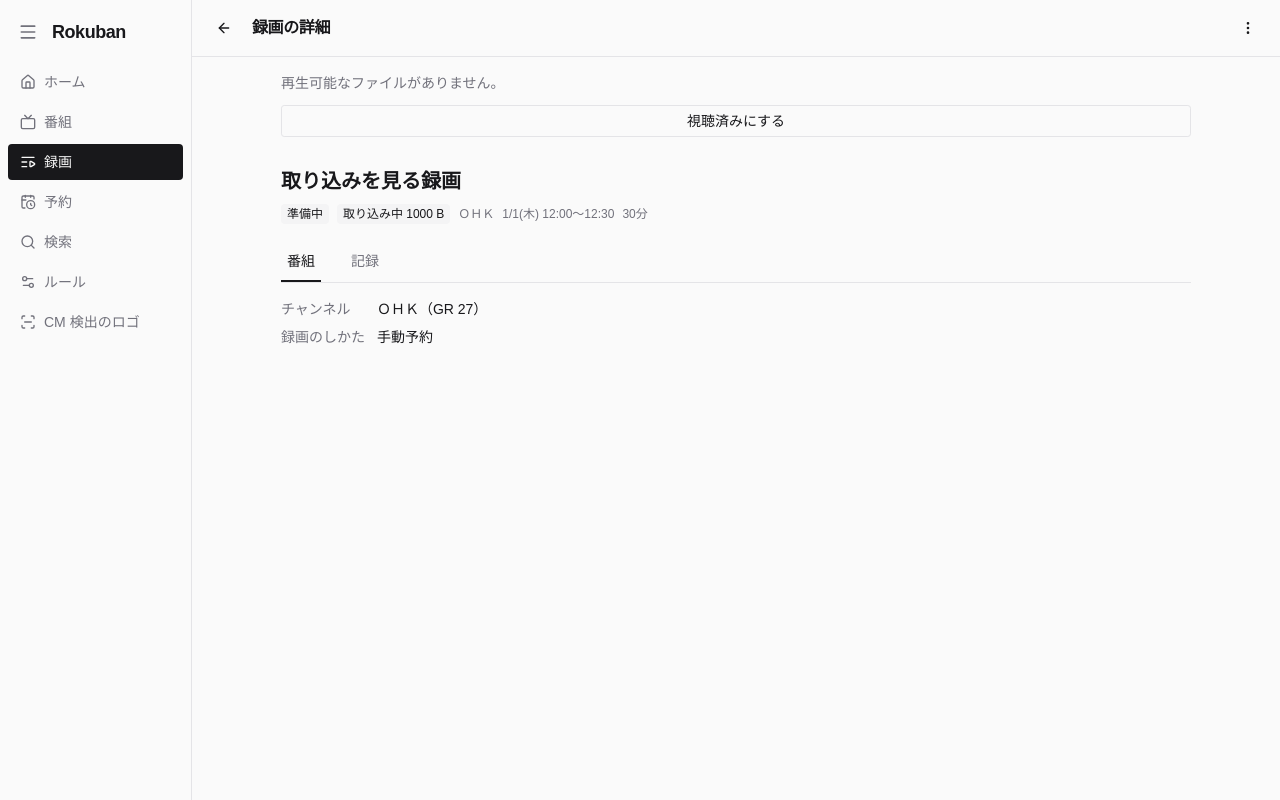
取り込み進捗の表示 › 同じ進捗データのまま 60 秒を越えたら停滞へ切り替わる
Expected: the heading "取り込みを見る録画" is shown, [281, 170, 461, 192]
Expected: the text "取り込み中 1000 B（停滞）" is not shown
Click the button with aria-label "取り込み状態を記録タブで見る": [394, 214] box [337, 202, 450, 226]
Wait 60001 ms
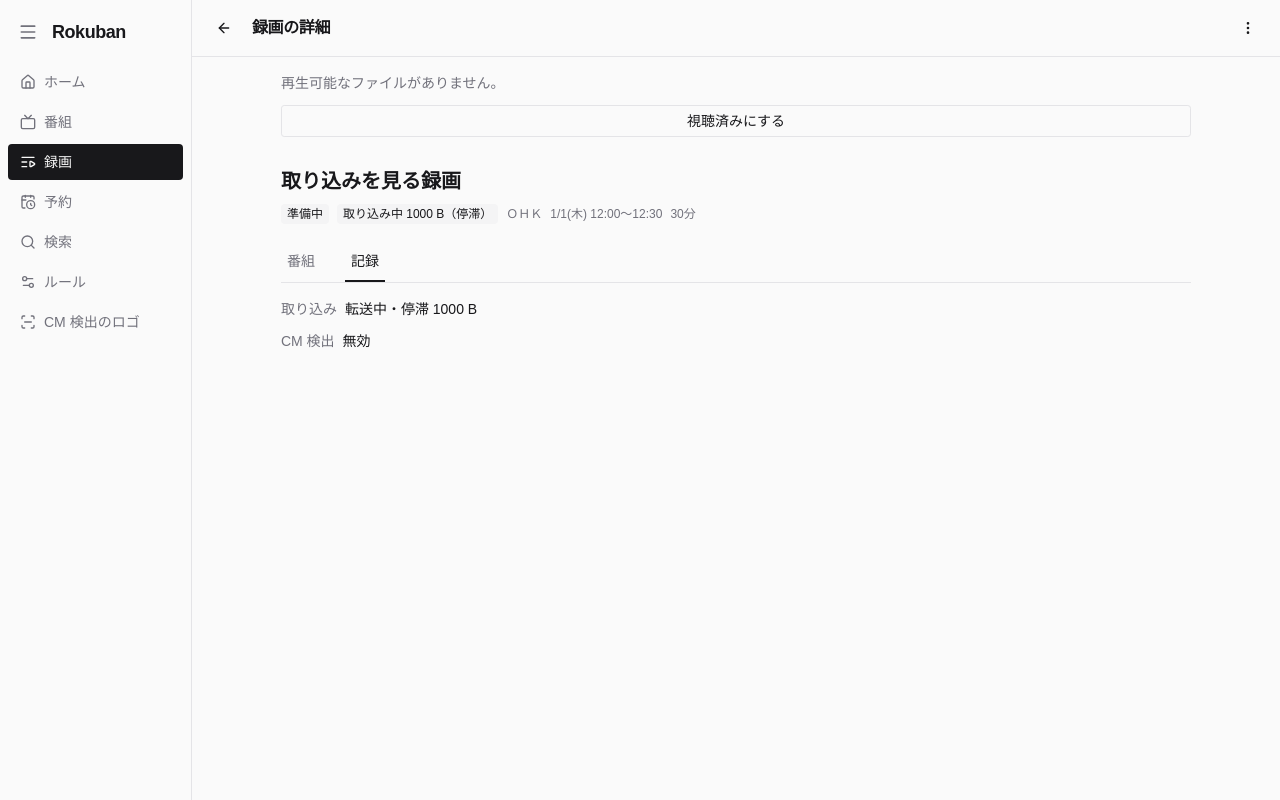
Now the text "取り込み中 1000 B（停滞）" is shown, box [337, 204, 498, 224]
Now the text "転送中・停滞 1000 B" is shown, box [345, 299, 477, 319]
